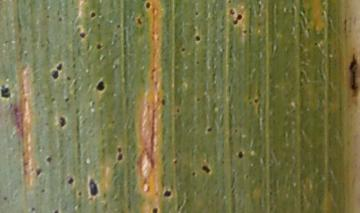tarspot: (85, 177, 101, 200), (92, 77, 107, 95), (230, 12, 244, 30), (1, 81, 12, 101), (198, 162, 212, 176), (56, 114, 68, 130), (48, 68, 60, 81), (33, 165, 43, 180), (204, 123, 216, 135), (87, 8, 98, 21), (148, 203, 162, 213), (235, 148, 245, 162), (161, 187, 172, 199), (114, 152, 126, 163), (157, 95, 168, 107), (76, 29, 87, 40), (94, 41, 104, 53), (64, 176, 77, 185), (42, 154, 55, 163), (143, 1, 154, 11), (178, 44, 188, 55), (193, 33, 202, 44), (252, 95, 261, 106), (64, 72, 72, 83), (50, 206, 62, 213), (227, 7, 236, 16), (64, 96, 73, 105), (116, 145, 124, 154)
